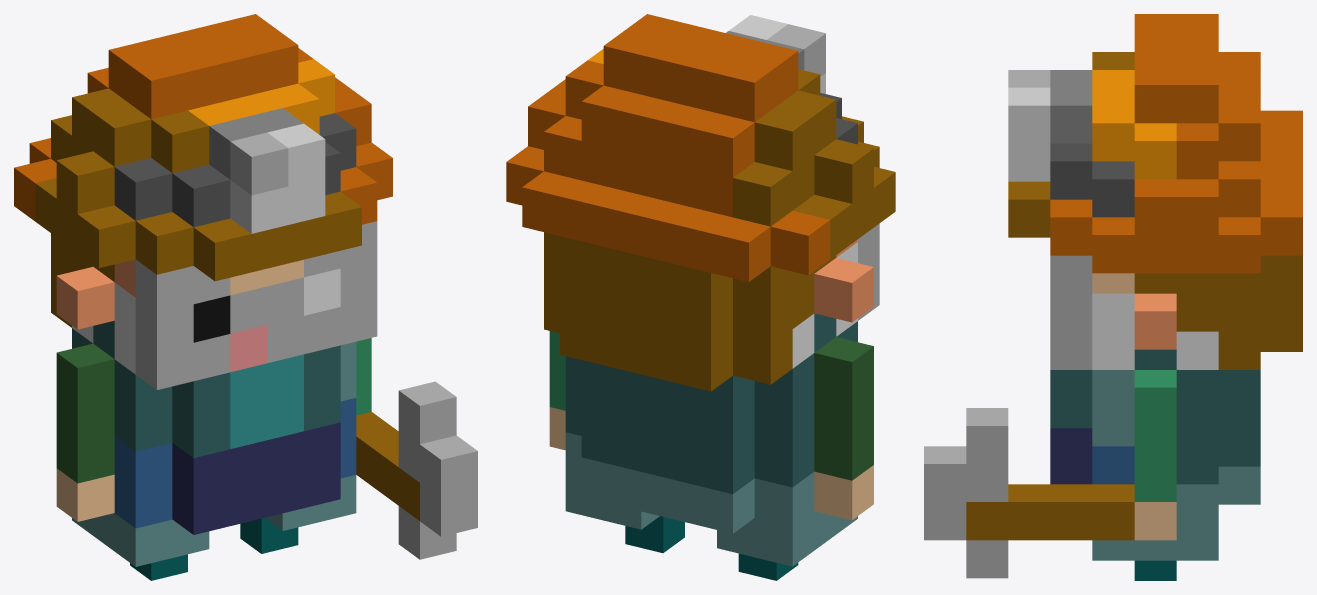
File: deathminer.fbx
3 renders of one model, left to right at view 1: azimuth 30°, elevation 25°; view 2: azimuth 150°, elevation 25°; view 3: azimuth 270°, elevation 25°, orthographic. The views are drawn at different scales.
Visible parts, largest first — view 1: 对象; view 2: 对象; view 3: 对象.
Boxes of the visible parts, x1,y1,x2,y2 form: 对象: (14, 14, 477, 580); 对象: (506, 14, 895, 580); 对象: (924, 14, 1302, 580).
Bounding box in the file's own units: 8 × 13 × 9.
Materials: 1 (1 with a texture image).
